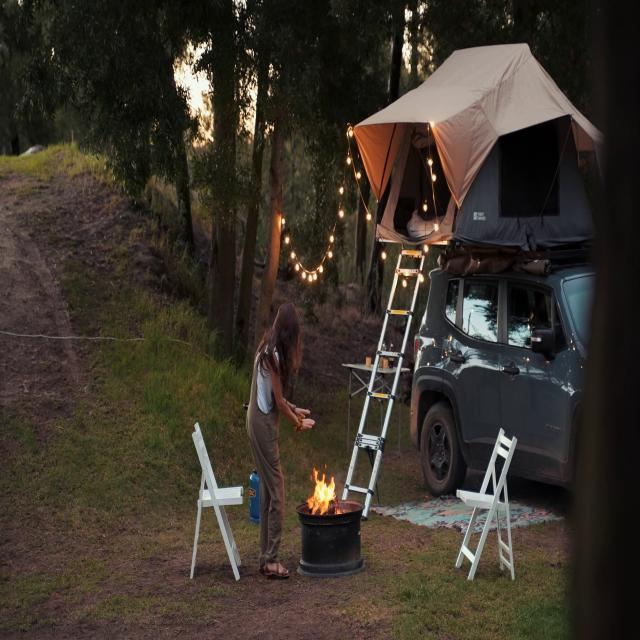Fire: (308, 460, 339, 516)
